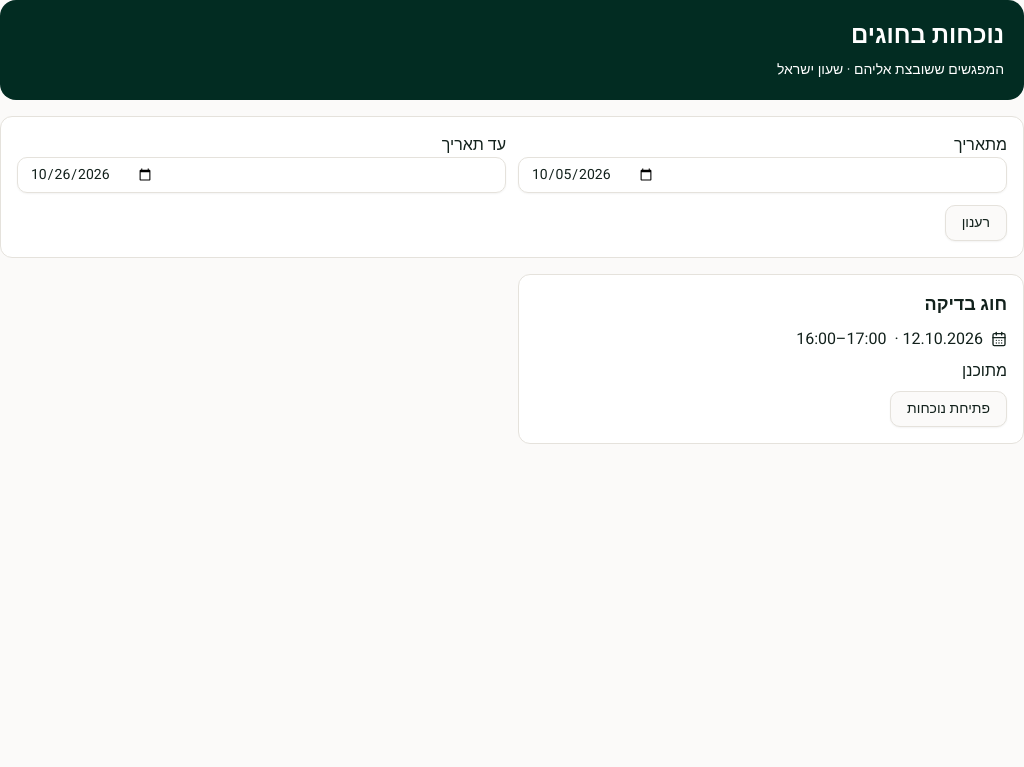
Test: own attendance marking and correction submit exact version; concurrent click guarded
Click the button "פתיחת נוכחות": [949, 409] box [890, 391, 1007, 427]
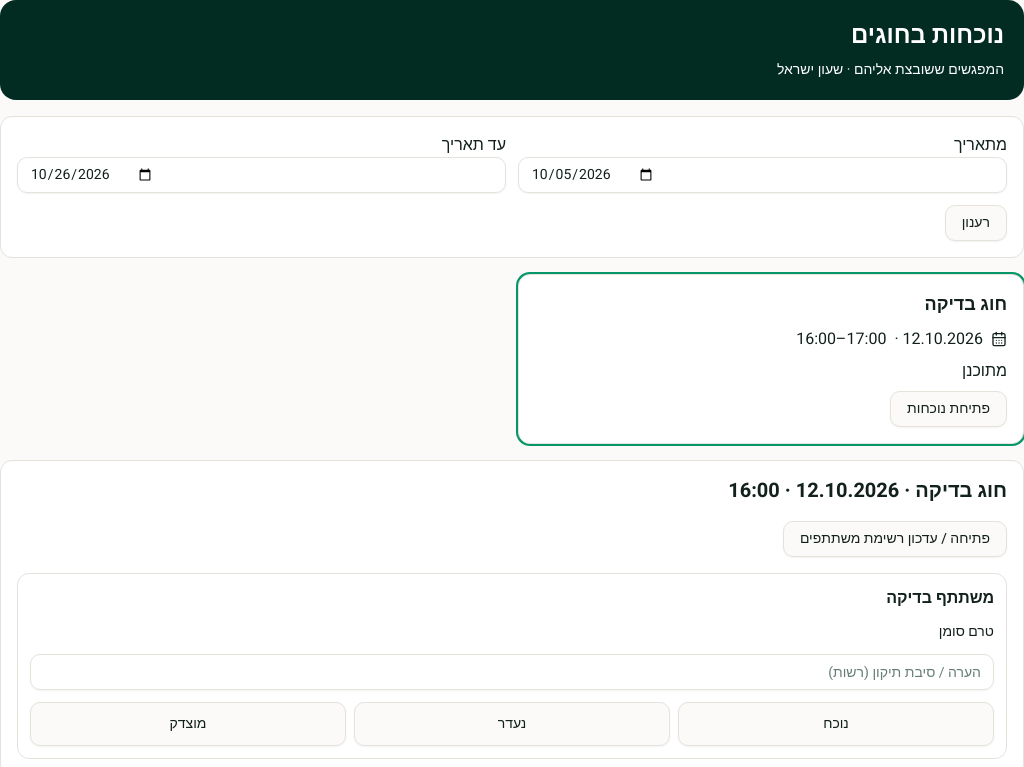
Result: the heading "משתתף בדיקה" is shown at [886, 586, 994, 610]
In the field named "הערה עבור משתתף בדיקה": [512, 672] box [30, 654, 994, 690], type "בדיקה"
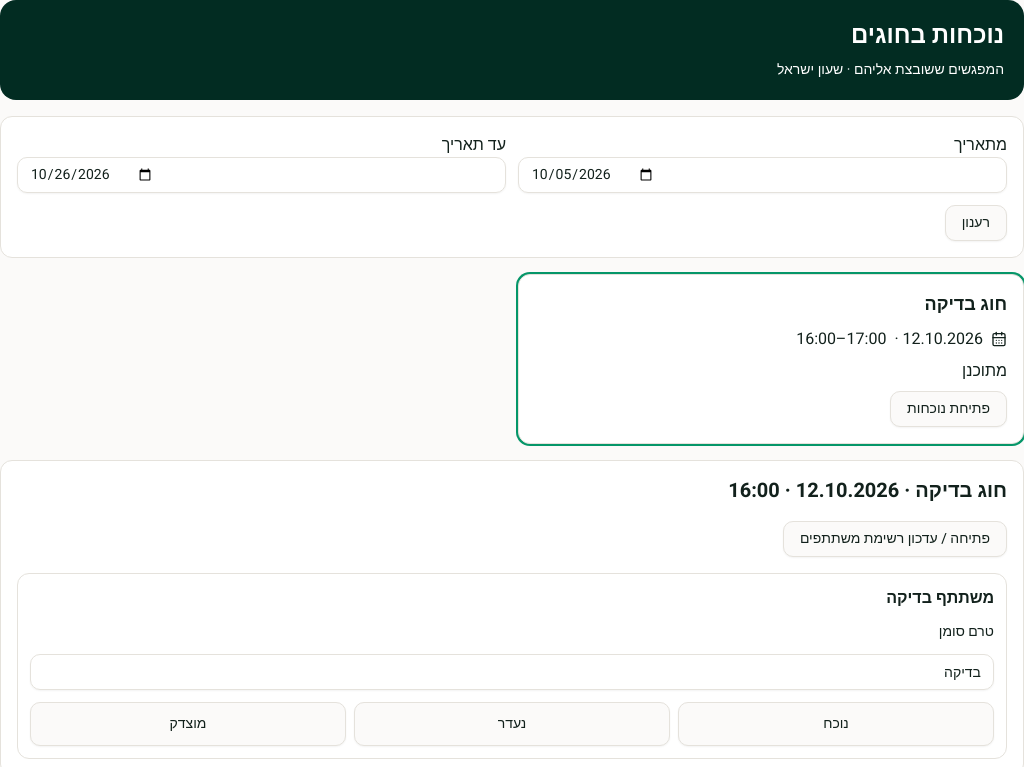
Click the button "נוכח": [836, 724] box [678, 702, 994, 746]
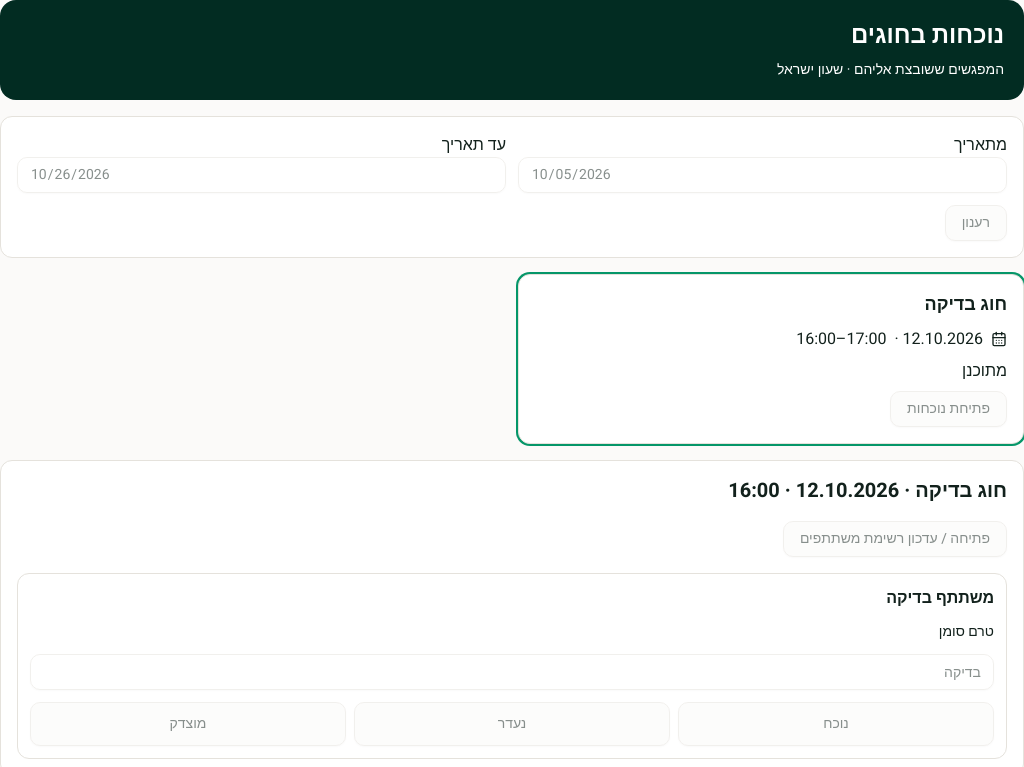
Click the button "נוכח": [836, 724] box [678, 702, 994, 746]
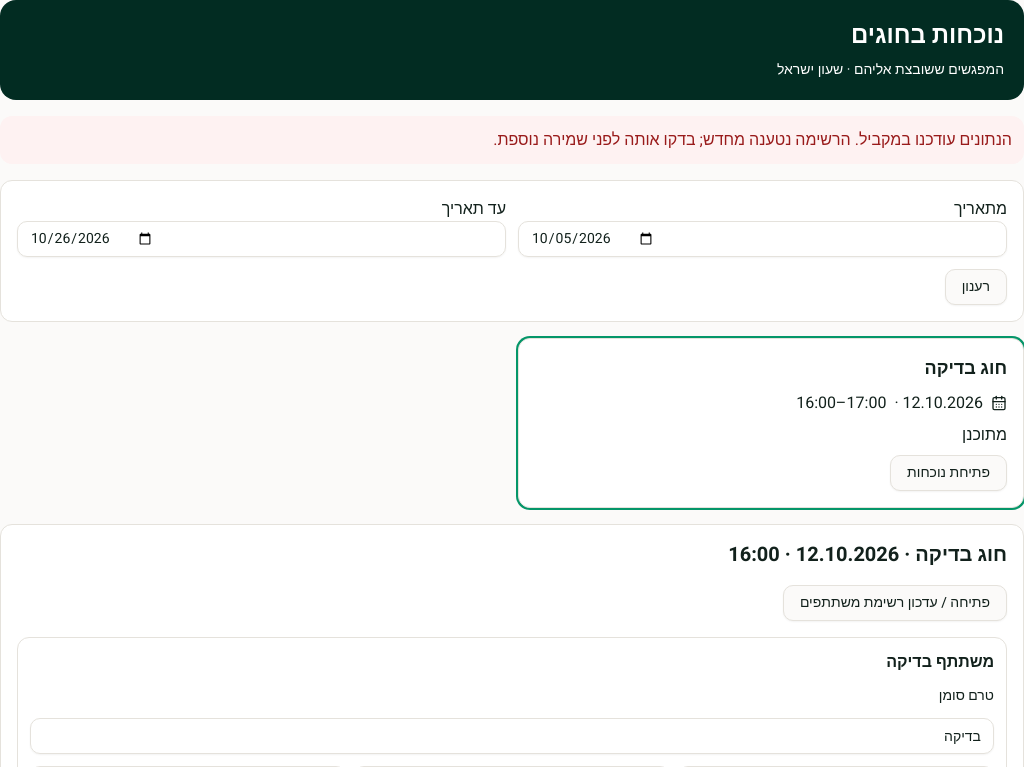
Result: the message shows "עודכנו במקביל" at [493, 128, 1012, 152]
